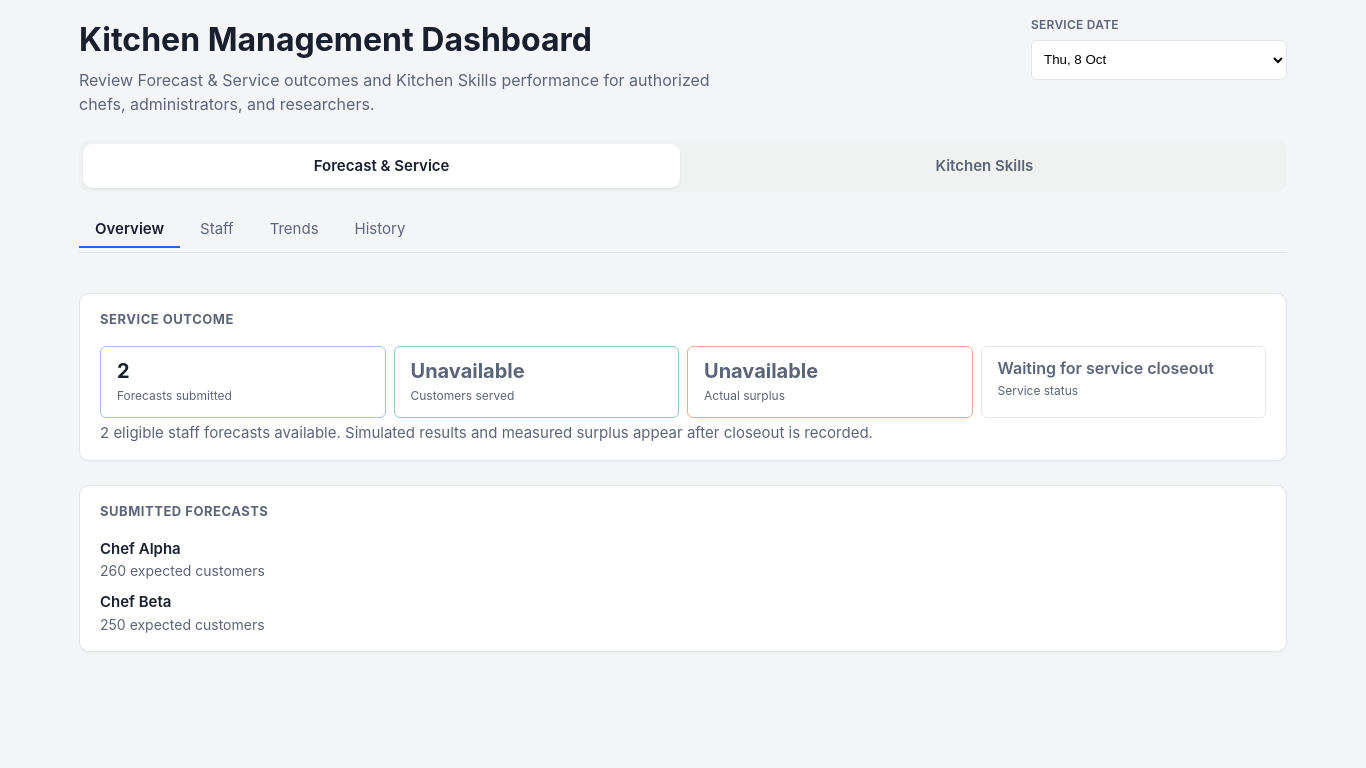
it: unified Kitchen Management Dashboard › keeps full Forecast navigation visible for forecast-only 8 Oct 2026 service
Expected: the element with test id "kitchen-mgmt-area-tabs" is shown, [79,140,1287,192]
Expected: the element with test id "kitchen-mgmt-primary-tabs" is shown, [79,208,1287,253]
Click the tab with test id "kitchen-mgmt-primary-tab-staff". click: (217, 228)
box: [184,208,250,248]
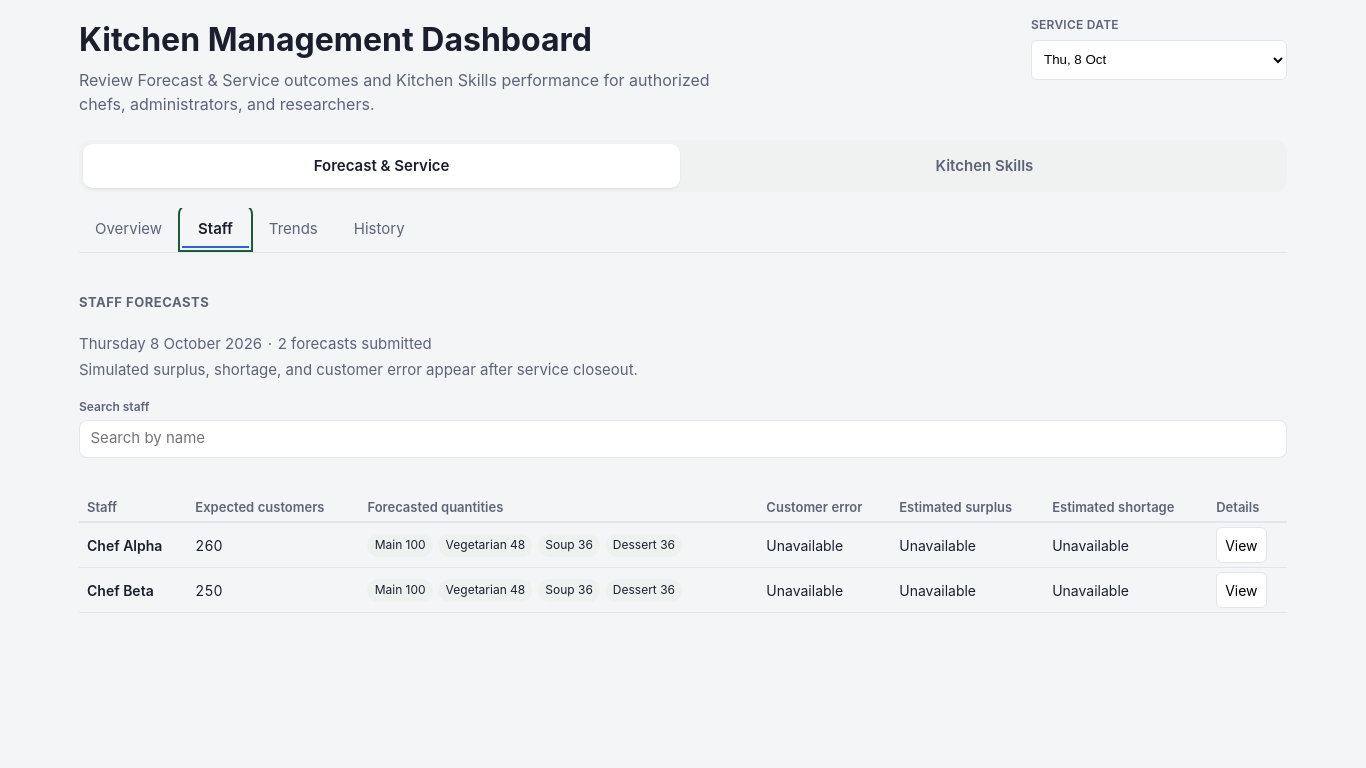
Expected: the column heading with test id "staff-result-name-chef-a" reads "Chef Alpha", [87,537,162,554]
Expected: the element with test id "kitchen-mgmt-staff-results" is shown, [79,293,1287,613]
Click the tab with test id "kitchen-mgmt-primary-tab-trends". click: (293, 228)
box: [253,208,334,248]
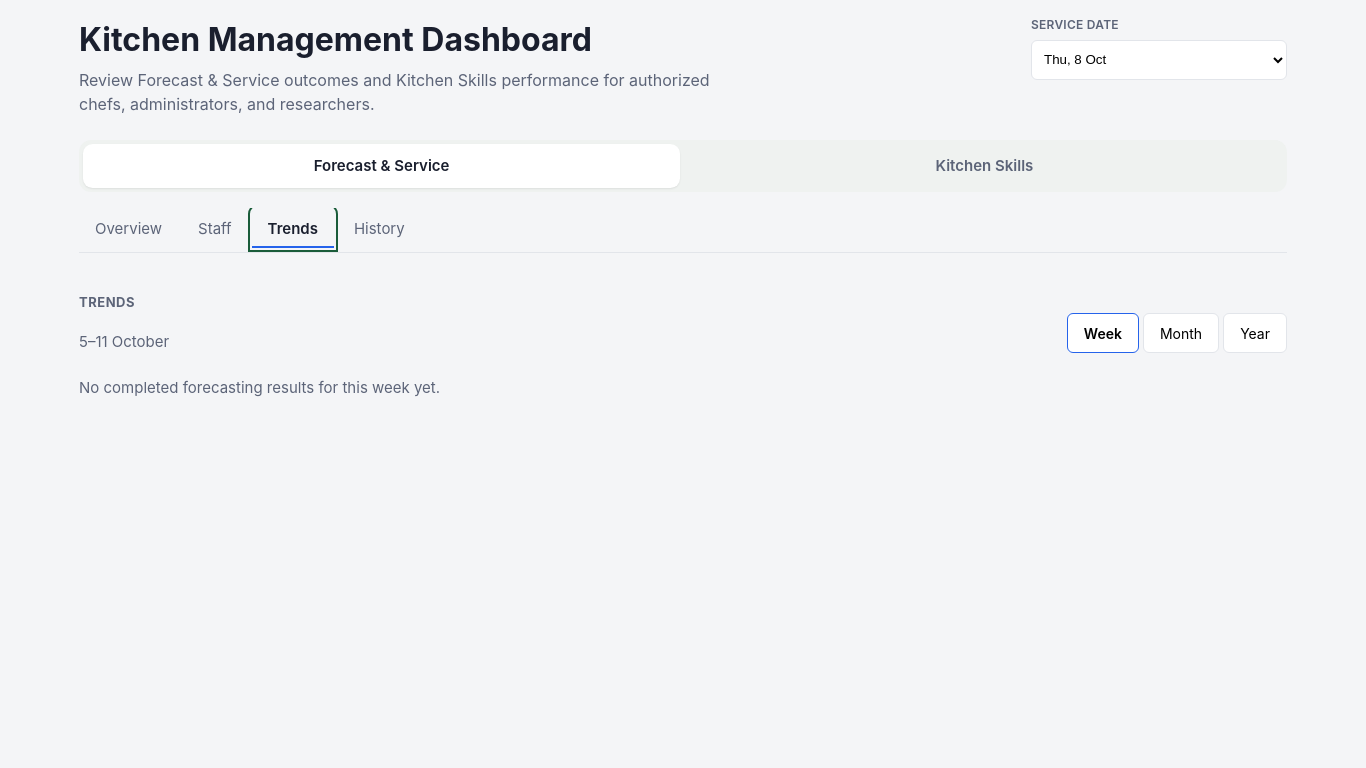
Expected: the element with test id "kitchen-mgmt-trends" is shown, [79,293,1287,400]
Click the tab with test id "kitchen-mgmt-primary-tab-history". click: (379, 228)
box: [338,208,421,248]
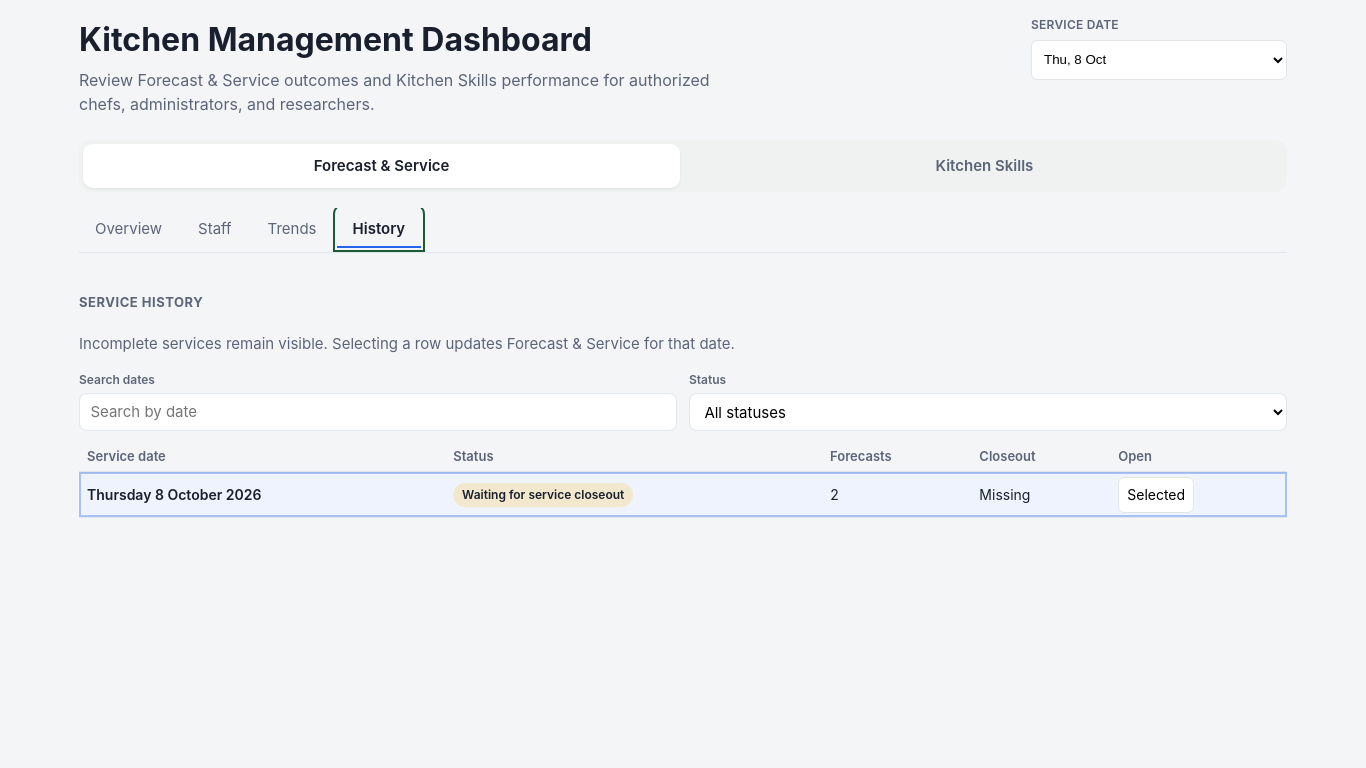
Expected: the element with test id "kitchen-mgmt-history" is shown, [79,293,1287,518]
